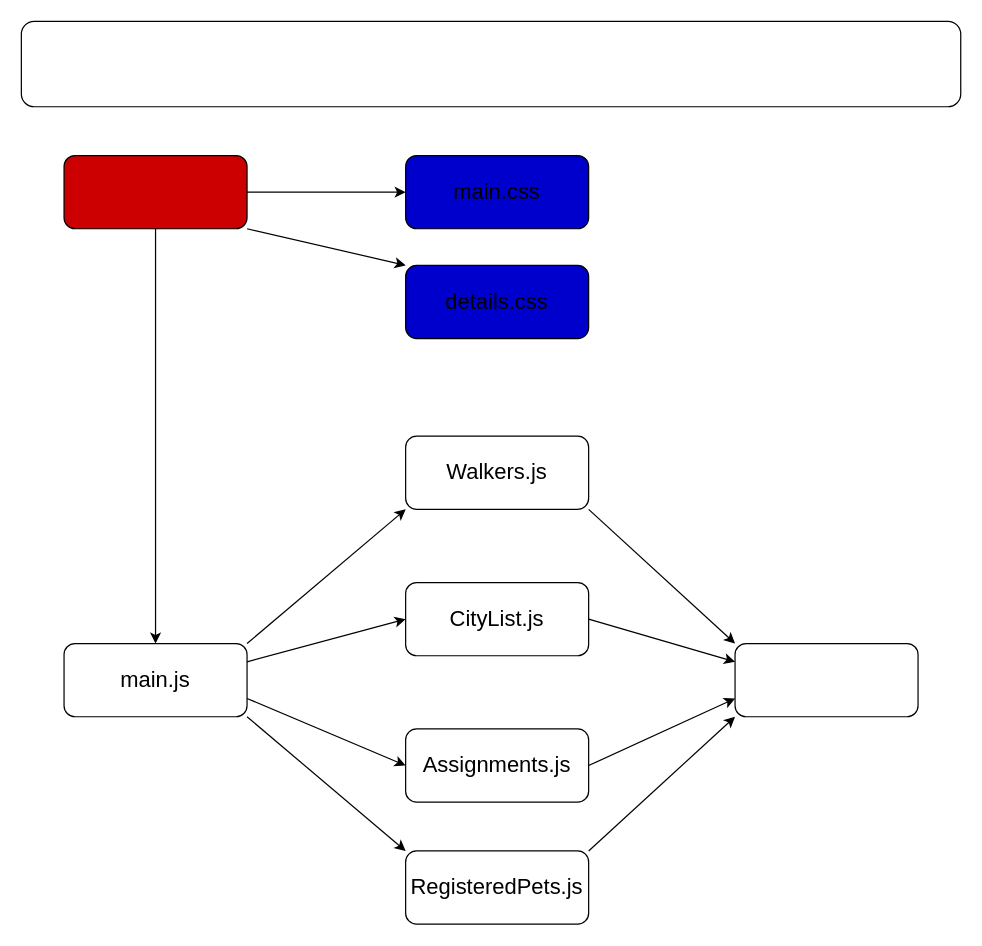
Some shapes in this 982 by 946 pixel diagram are drawn without their labels. Each missing label, with the centre of its shape:
database.js: pixel 826 679
DOG WALKING: pixel 490 63
index.html: pixel 155 191
